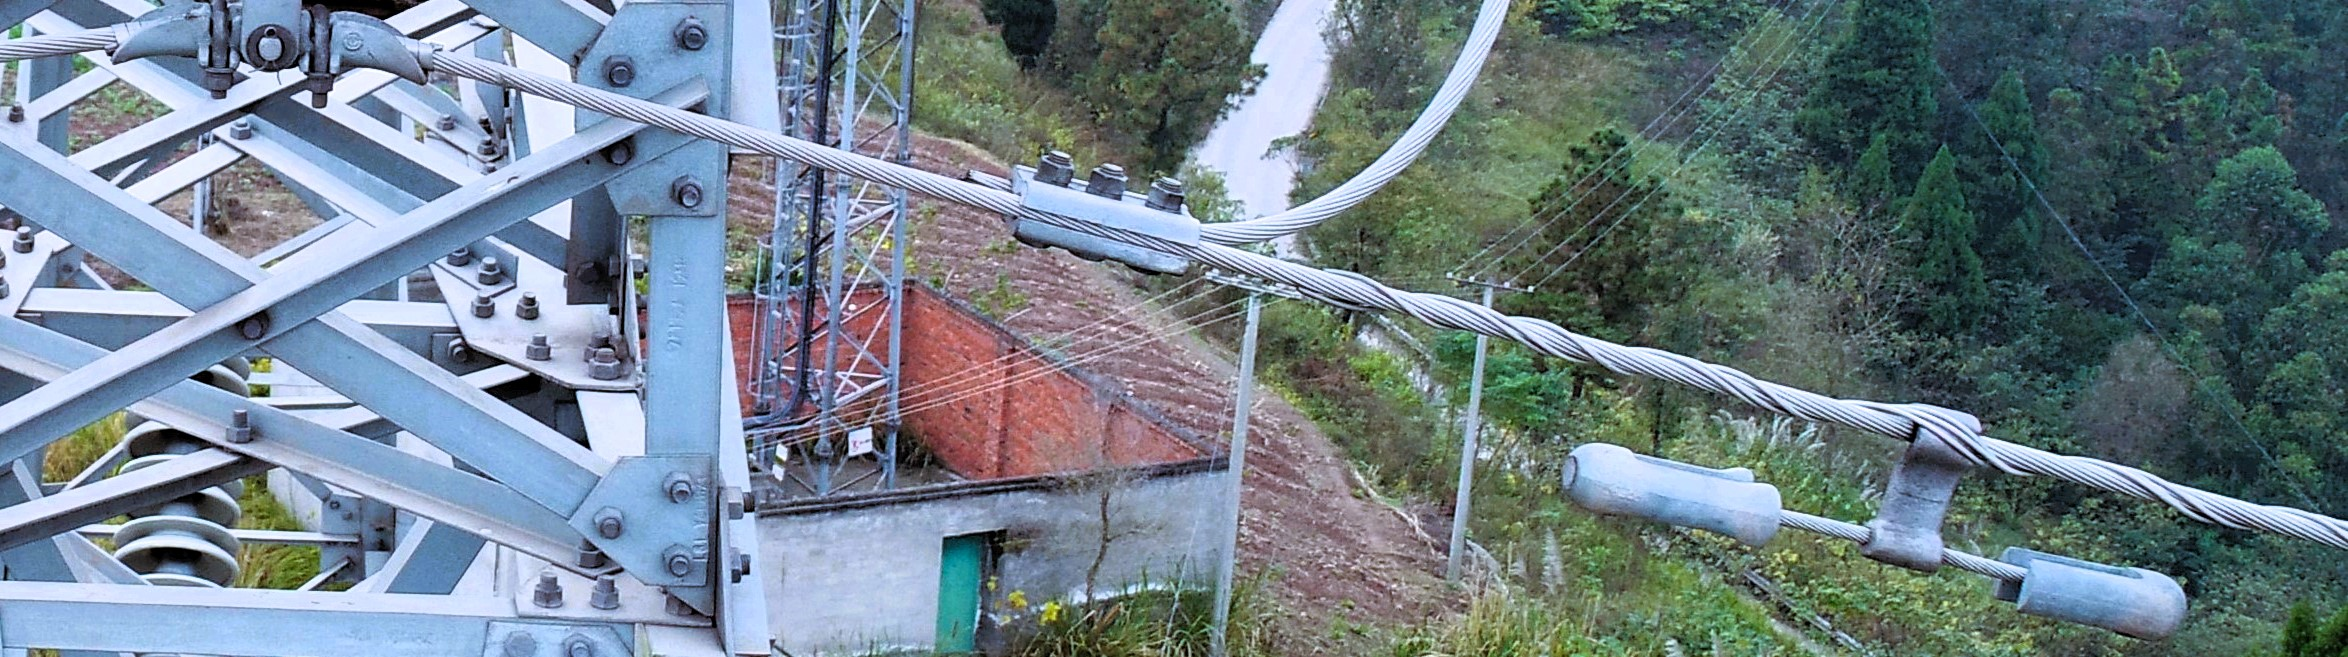Shockproof hammer: (1551, 335, 2200, 656)
